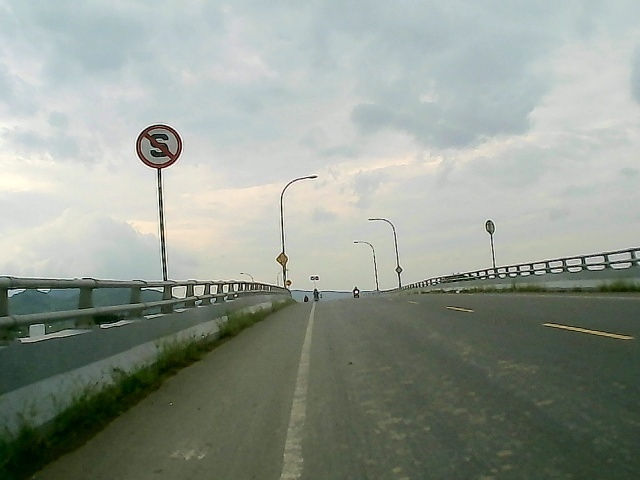Dilarang berhenti: (134, 124, 182, 171)
